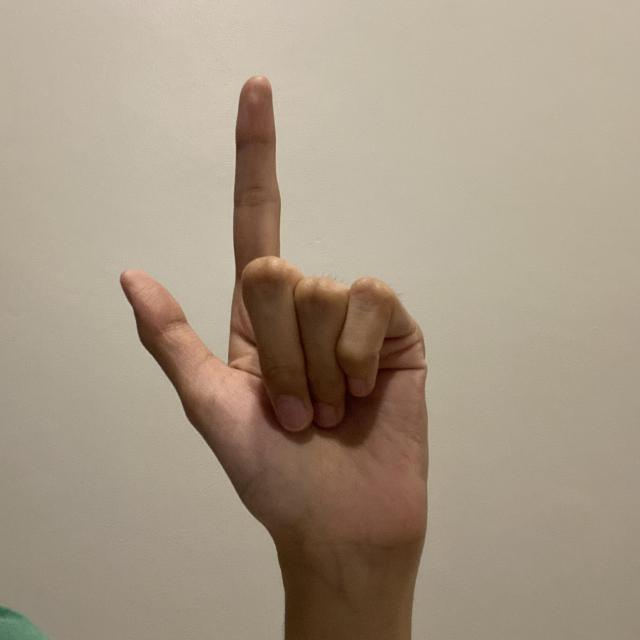L: (118, 72, 432, 551)
